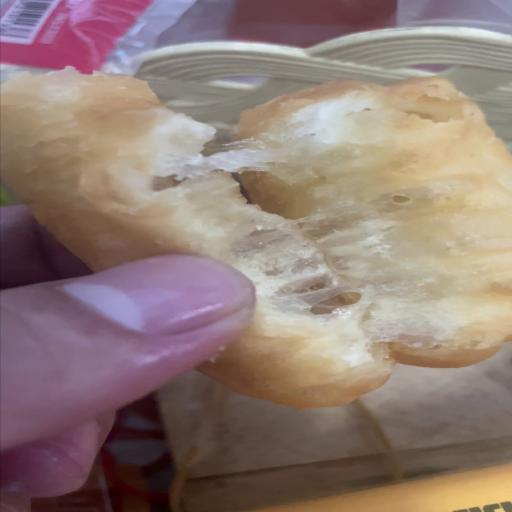street_golden_defect: (0, 77, 512, 391)
